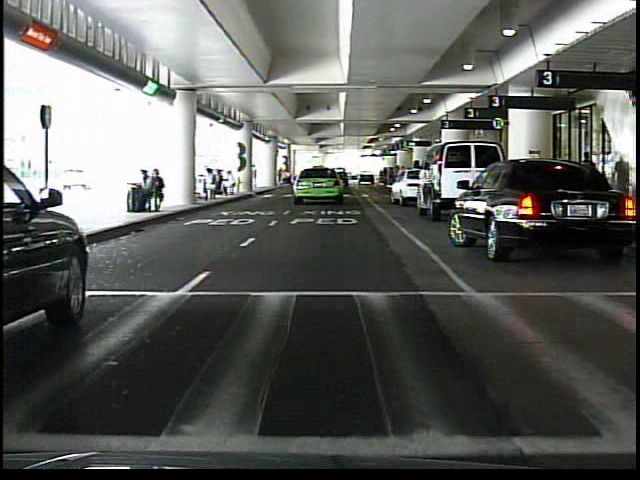person: (575, 148, 598, 211)
